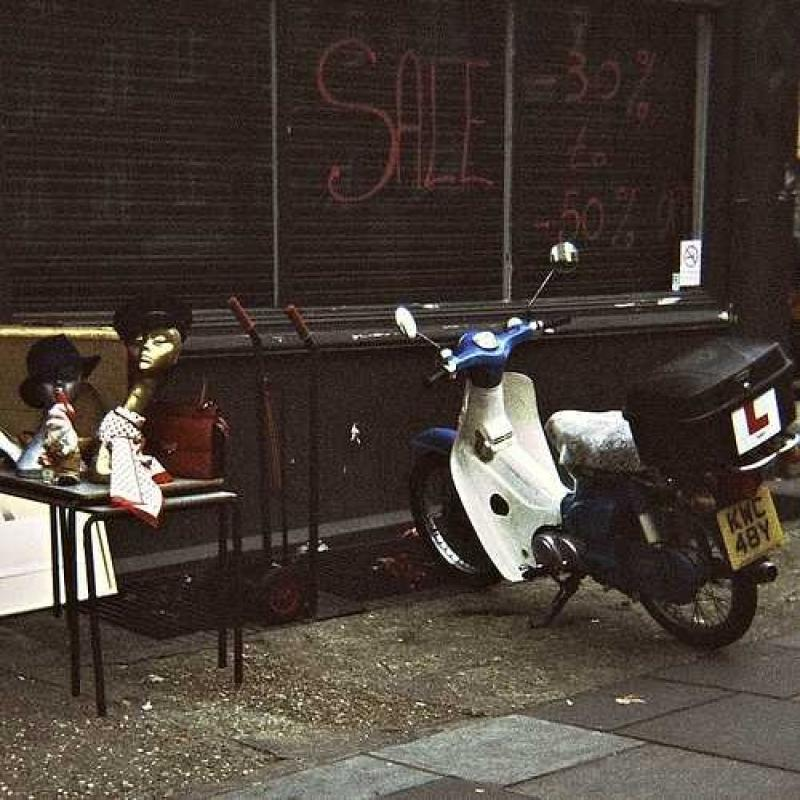bike: (379, 281, 793, 636)
